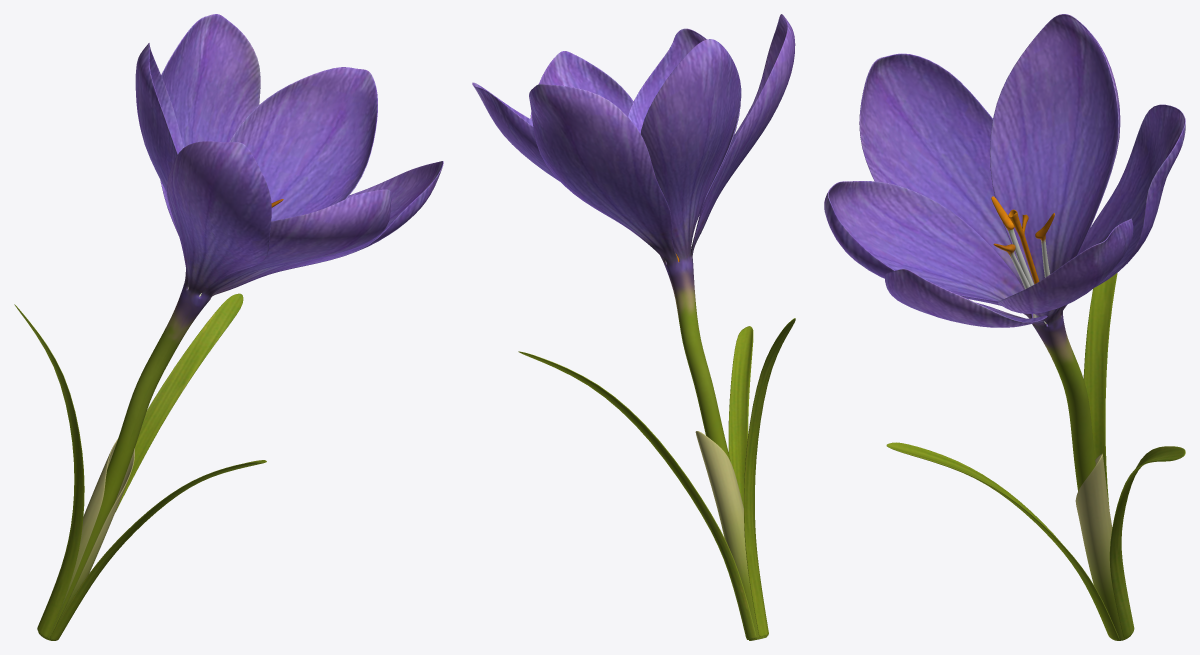
3 views of the same model, side by side, from view 1: azimuth 30°, elevation 25°; view 2: azimuth 150°, elevation 25°; view 3: azimuth 270°, elevation 25° (orthographic). The views are drawn at different scales.
Visible parts, largest first — view 1: 12974_crocus_flower_v1_l3; view 2: 12974_crocus_flower_v1_l3; view 3: 12974_crocus_flower_v1_l3.
Part boxes in pixels (<box>): 12974_crocus_flower_v1_l3: <box>14,14,443,640</box>; 12974_crocus_flower_v1_l3: <box>472,14,795,640</box>; 12974_crocus_flower_v1_l3: <box>824,14,1185,640</box>.
Size of the model in its own units: 22.22 by 36.41 by 17.96.
Materials: 1 (1 with a texture image).
